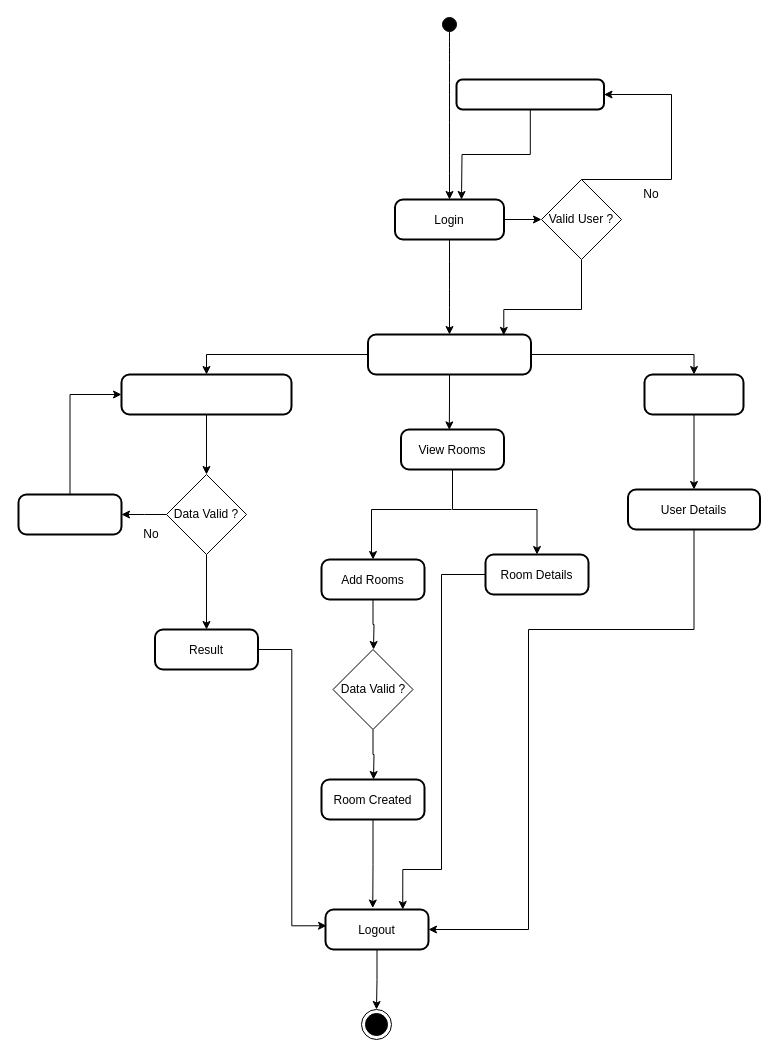
The diagram is 778 pixels wide and 1057 high, and some of its shapes have lost their labels. Here are the shapes that lost their labels. From the top down, the box of each, then its label:
(455, 78, 604, 110): Show Error -> Invalid User
(366, 333, 532, 375): Admin Dashboard
(120, 373, 292, 415): Predict Room Cancellation
(643, 373, 744, 415): View User
(17, 493, 122, 535): Error: Invalid Input
